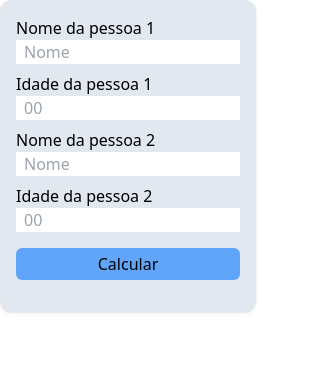
Test: Exercises 3: Average Between Ages › should show the message with the names and media
The width and height of the screenshot is (320, 378).
Type "Fernando" into the field labelled "Nome da pessoa 1" at (128, 52), box top-left (16, 40), bottom-right (240, 64)
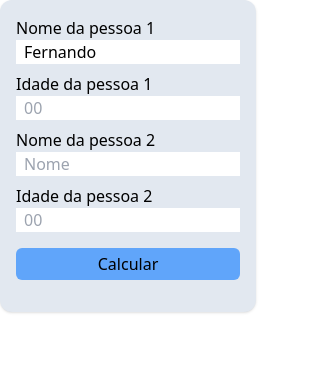
Type "18" into the field labelled "Idade da pessoa 1" at (128, 108), box top-left (16, 96), bottom-right (240, 120)
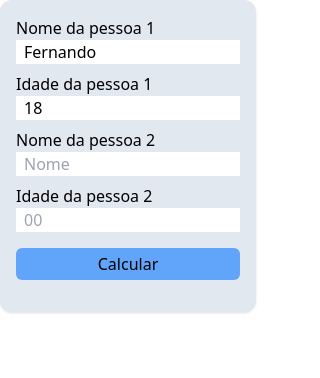
Type "Maria" into the field labelled "Nome da pessoa 2" at (128, 164), box top-left (16, 152), bottom-right (240, 176)
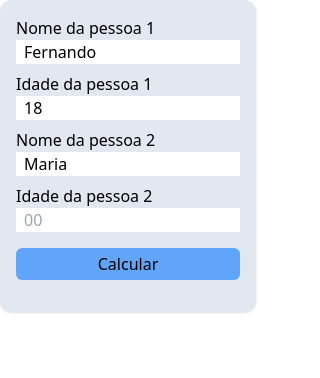
Type "22" into the field labelled "Idade da pessoa 2" at (128, 220), box top-left (16, 208), bottom-right (240, 232)
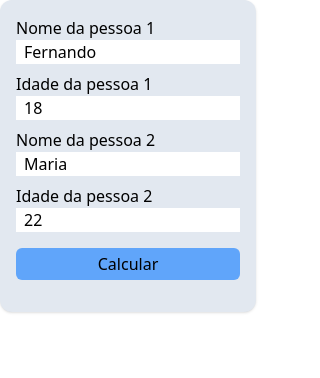
Click the button "Calcular" at (128, 264), box top-left (16, 248), bottom-right (240, 280)
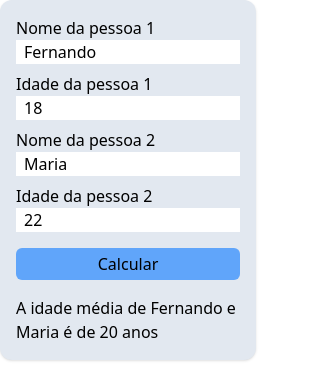
Result: the text with id "showMessageResult" reads "A idade média de Fernando e Maria é de 20 anos" at top-left (16, 297), bottom-right (236, 343)
